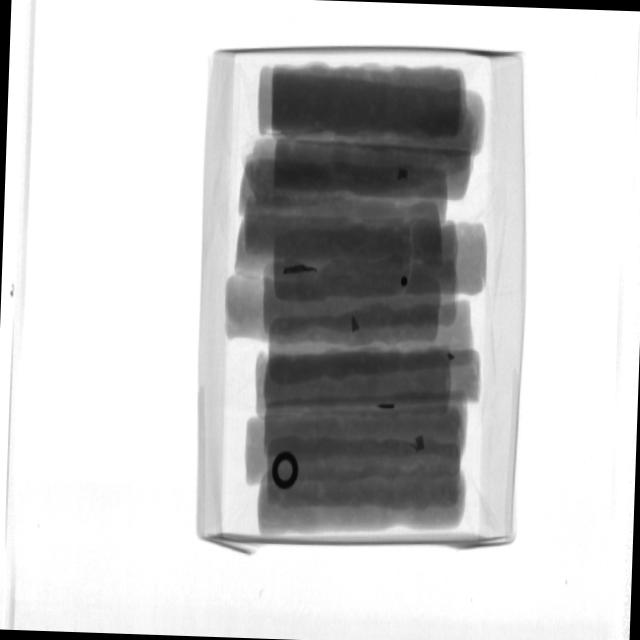ym: (272, 451, 299, 491), (282, 264, 319, 276), (351, 314, 362, 334), (378, 401, 396, 412), (416, 435, 426, 453), (397, 170, 409, 182), (400, 277, 408, 286), (449, 353, 457, 361)
